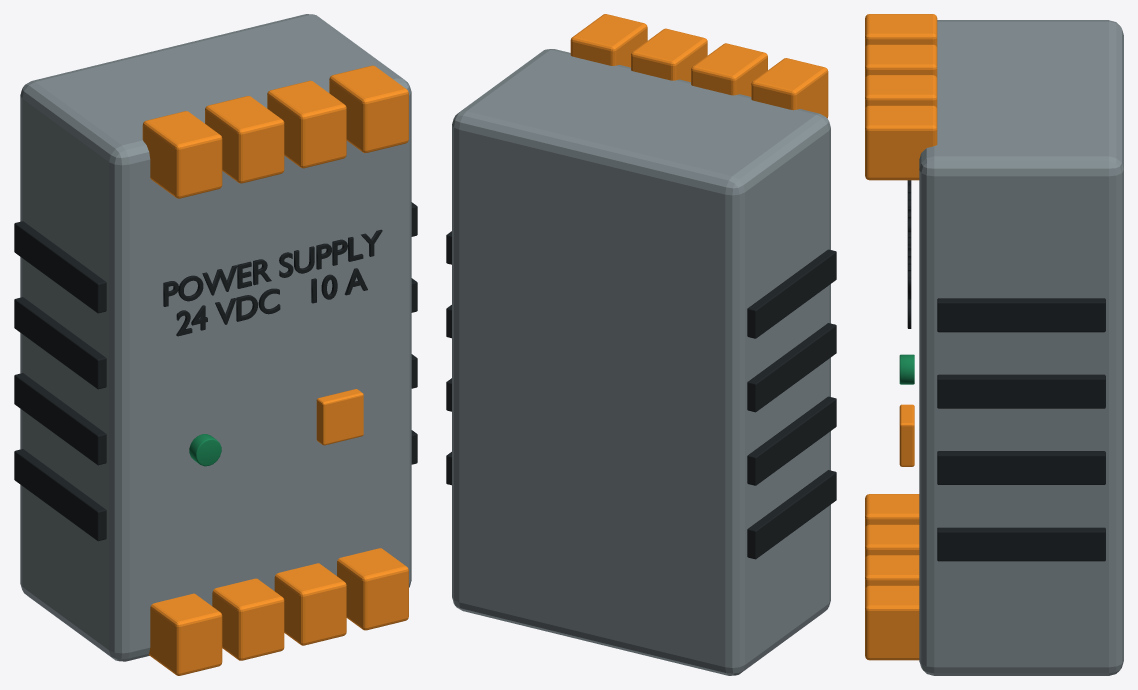
File: din_24v_power_supply.glb
3 renders of one model, left to right at view 1: azimuth 30°, elevation 25°; view 2: azimuth 150°, elevation 25°; view 3: azimuth 270°, elevation 25°, orthographic. The views are drawn at different scales.
Parts seen in each view (by area): view 1: PSU_BODY, TERMINAL_1_0, PSU_LABEL, TERMINAL_1_2, TERMINAL_1_1, TERMINAL_1_3, TERMINAL_0_0, TERMINAL_0_1, TERMINAL_0_2, TERMINAL_0_3, PSU_SIDE_VENT_-0.3_1, PSU_SIDE_VENT_-0.3_3 (+4 smaller); view 2: PSU_BODY, TERMINAL_1_0, PSU_SIDE_VENT_-0.3_1, PSU_SIDE_VENT_-0.3_3, PSU_SIDE_VENT_-0.3_0, PSU_SIDE_VENT_-0.3_2, TERMINAL_1_3, TERMINAL_1_1, TERMINAL_1_2; view 3: PSU_BODY, PSU_SIDE_VENT_0.3_2, PSU_SIDE_VENT_0.3_3, PSU_SIDE_VENT_0.3_0, PSU_SIDE_VENT_0.3_1, TERMINAL_1_3, TERMINAL_0_3, TERMINAL_1_1, TERMINAL_1_0, TERMINAL_1_2, TERMINAL_0_0, TERMINAL_0_2 (+4 smaller).
Boxes of the visible parts, <box> form: PSU_BODY: <box>20,14,411,661</box>; TERMINAL_1_0: <box>142,111,222,198</box>; PSU_LABEL: <box>163,229,382,336</box>; TERMINAL_1_2: <box>267,80,346,168</box>; TERMINAL_1_1: <box>205,96,284,183</box>; TERMINAL_1_3: <box>329,65,408,152</box>; TERMINAL_0_0: <box>148,593,222,675</box>; TERMINAL_0_1: <box>212,578,284,660</box>; TERMINAL_0_2: <box>274,563,346,645</box>; TERMINAL_0_3: <box>337,548,408,630</box>; PSU_SIDE_VENT_-0.3_1: <box>14,373,106,465</box>; PSU_SIDE_VENT_-0.3_3: <box>14,221,106,313</box>; PSU_BODY: <box>452,49,830,675</box>; TERMINAL_1_0: <box>751,58,828,118</box>; PSU_SIDE_VENT_-0.3_1: <box>747,396,836,485</box>; PSU_SIDE_VENT_-0.3_3: <box>747,249,836,338</box>; PSU_SIDE_VENT_-0.3_0: <box>747,470,836,559</box>; PSU_SIDE_VENT_-0.3_2: <box>747,323,836,412</box>; TERMINAL_1_3: <box>570,14,647,67</box>; TERMINAL_1_1: <box>691,43,767,96</box>; TERMINAL_1_2: <box>631,28,707,81</box>; PSU_BODY: <box>919,20,1123,675</box>; PSU_SIDE_VENT_0.3_2: <box>937,374,1105,408</box>; PSU_SIDE_VENT_0.3_3: <box>937,298,1105,332</box>; PSU_SIDE_VENT_0.3_0: <box>937,527,1105,561</box>; PSU_SIDE_VENT_0.3_1: <box>937,451,1105,484</box>; TERMINAL_1_3: <box>865,105,937,180</box>; TERMINAL_0_3: <box>865,585,919,660</box>; TERMINAL_1_1: <box>865,44,937,78</box>; TERMINAL_1_0: <box>865,14,937,47</box>; TERMINAL_1_2: <box>865,75,937,108</box>; TERMINAL_0_0: <box>865,494,919,528</box>; TERMINAL_0_2: <box>865,555,919,589</box>.
Size of the model in its own units: 0.618 by 0.985 by 0.43.
